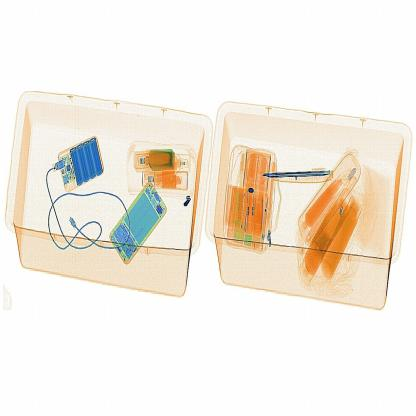pliers: (267, 169, 340, 192)
